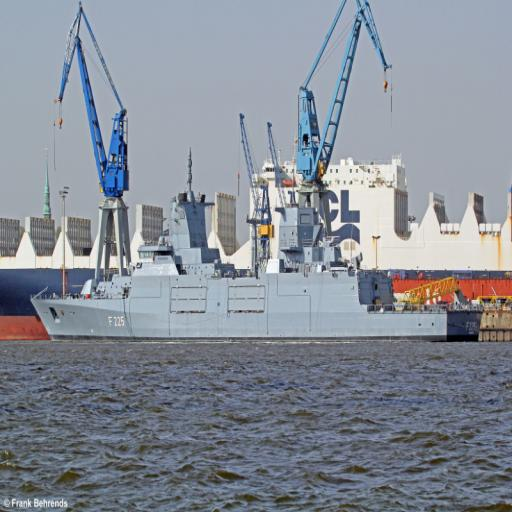Fragata: (29, 188, 486, 347)
